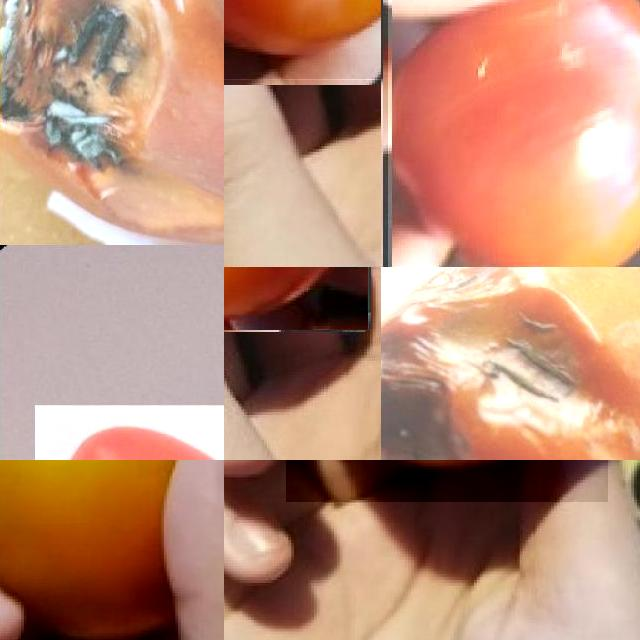Fresh Tomato: (224, 0, 381, 79), (35, 405, 224, 460), (224, 267, 368, 330)
Rotten Tomato: (388, 0, 640, 267), (0, 0, 224, 245), (381, 267, 640, 460), (0, 460, 224, 640)
